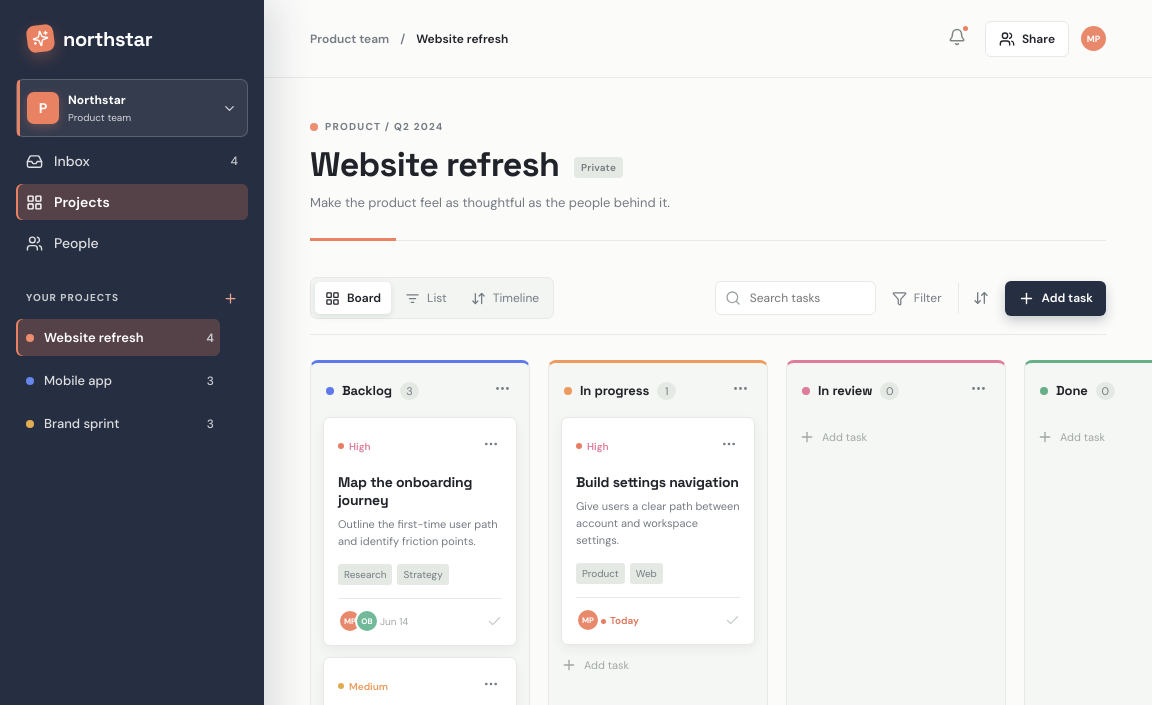
Scenario: Project management › adding a new project creates a uniquely named project and enters rename mode
The image size is (1152, 705).
Click the button named "Add project". click: (230, 300)
box: x1=223 y1=291 x2=238 y2=309
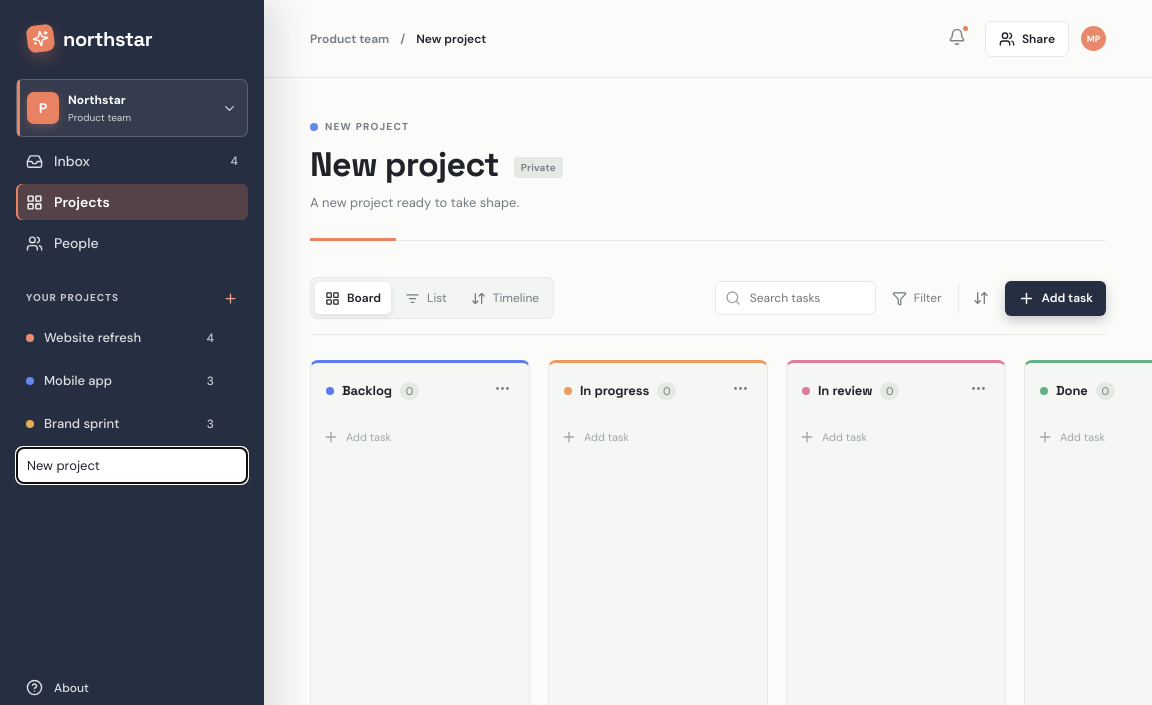
Result: the field showing "New project" is shown at x1=16 y1=447 x2=248 y2=484
